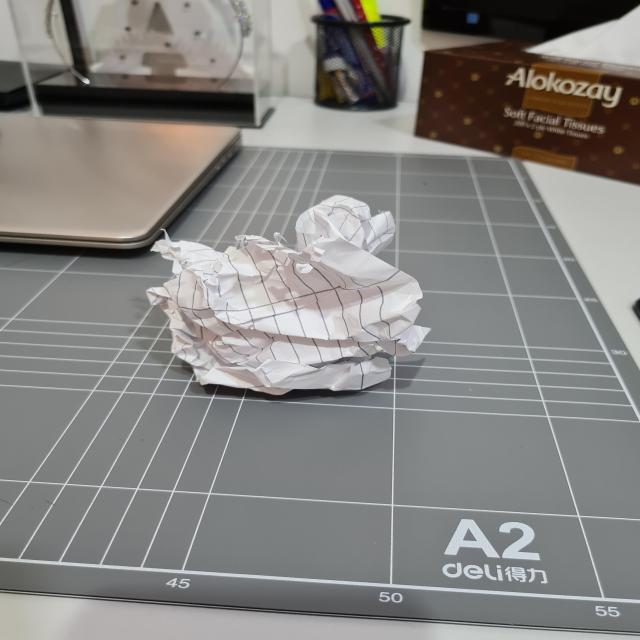kertas: (157, 202, 435, 398)
